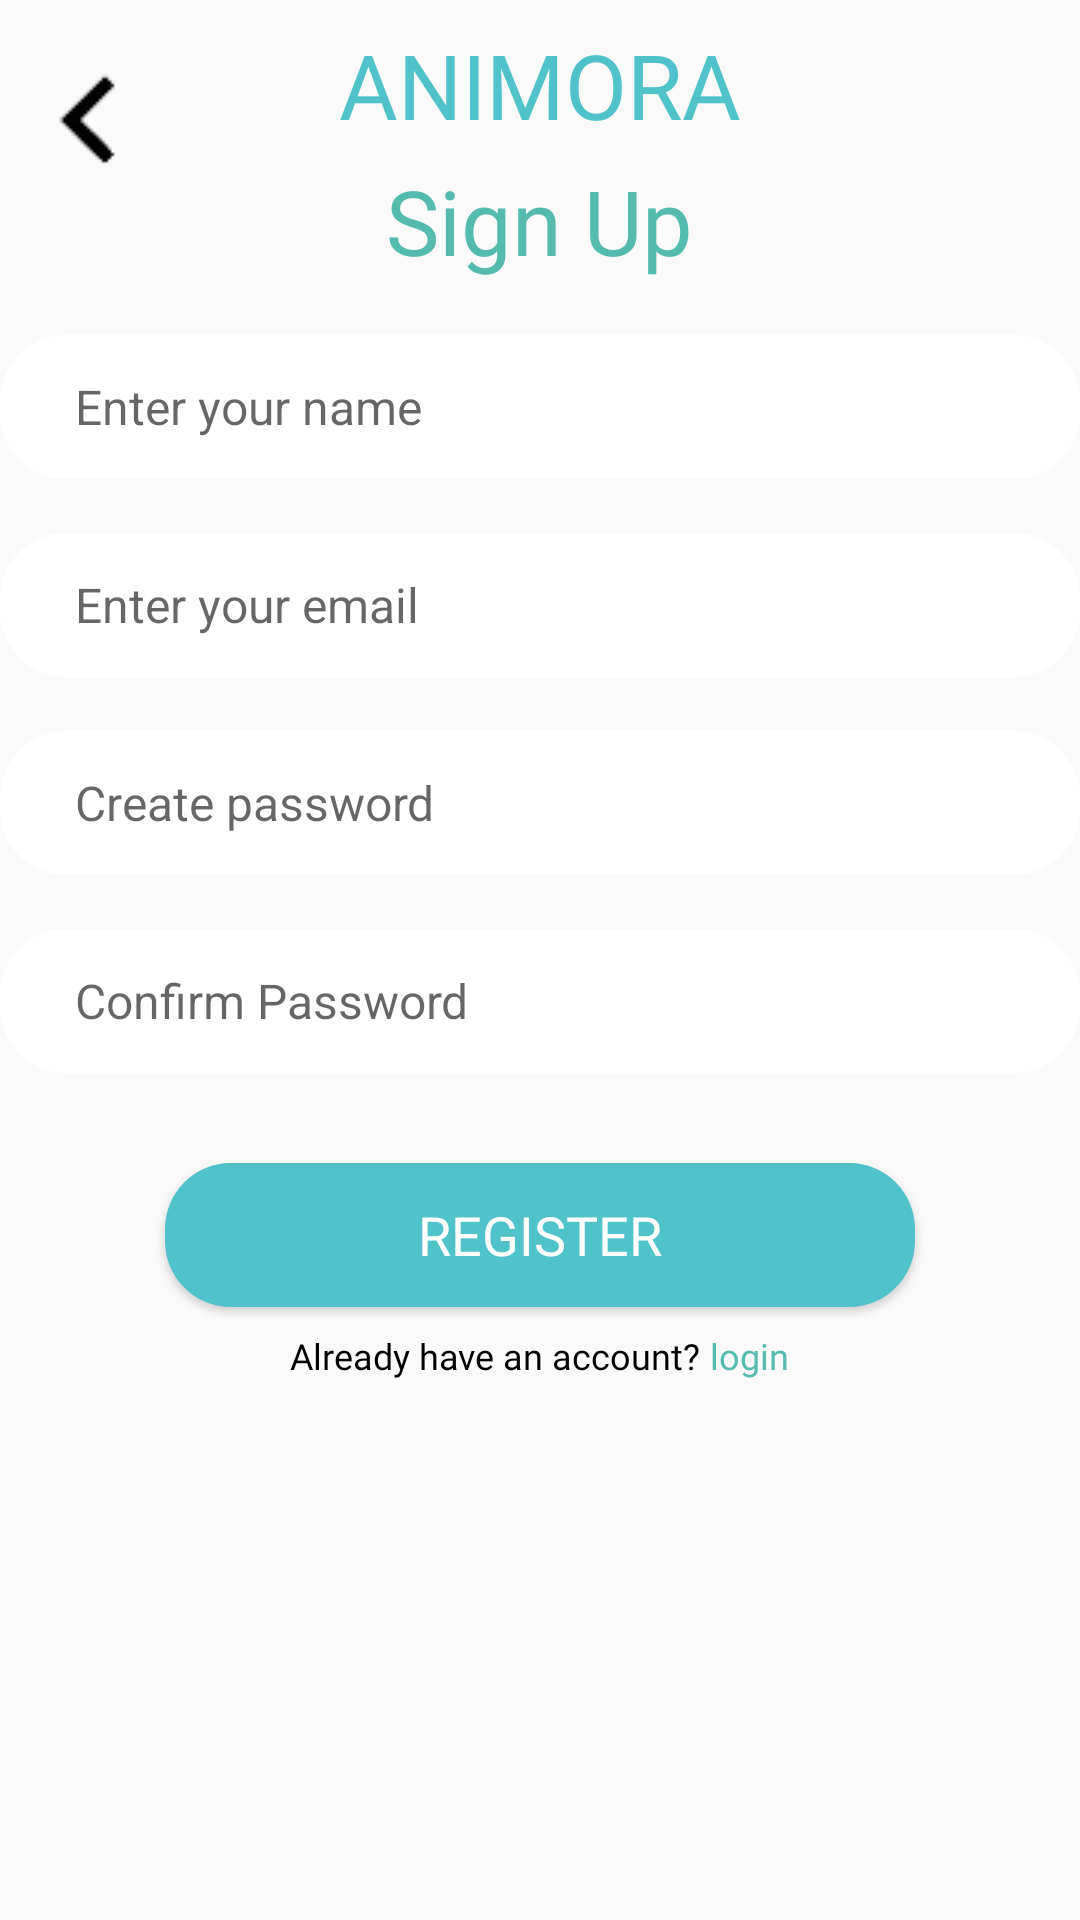

Icon bounding boxes for this 1080*1920 phone screenshot, format (x1, y1, x2, y2):
backbutton: (59, 75, 115, 163)
